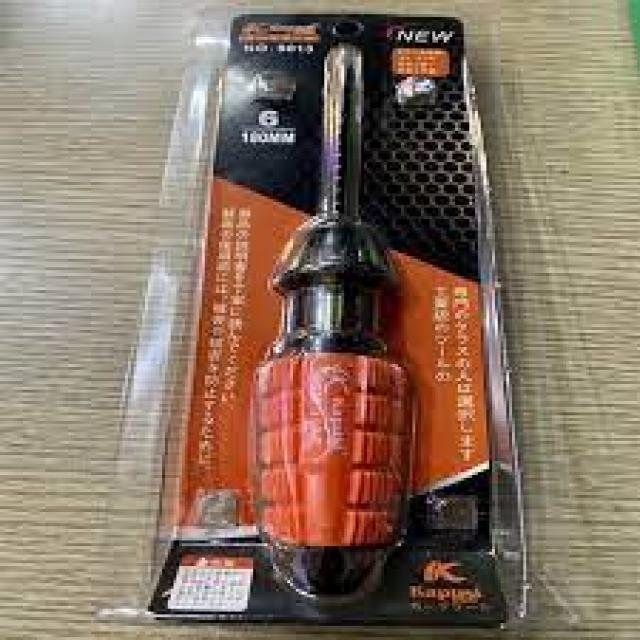screwdriver: (260, 42, 408, 608)
